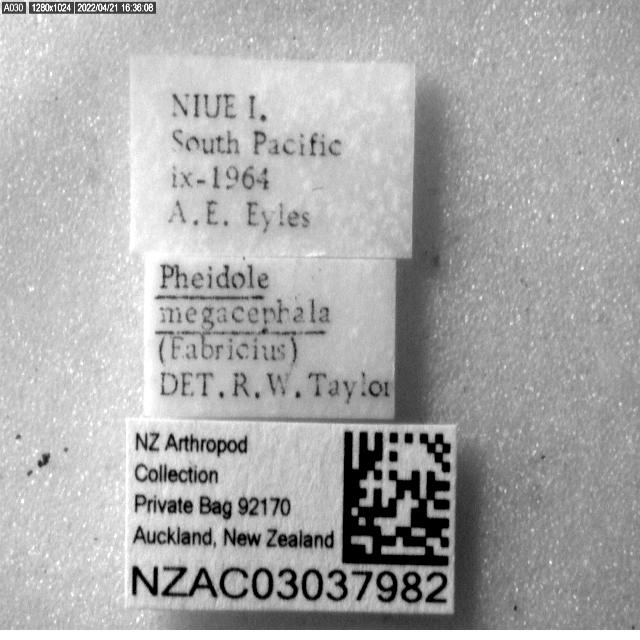typed_label: (126, 419, 456, 612), (130, 55, 415, 258), (144, 255, 396, 419)
